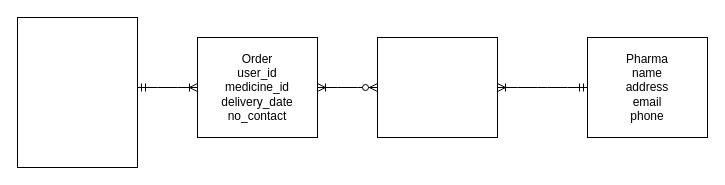
The diagram is 725 pixels wide and 185 high, and some of its shapes have lost their labels. The centre of each missing label's shape, as x and y in pixels:
Medicine name price pharmacy_id dosage quantity: point (437, 87)
User first_name last_name sex date_of_birth phone address allergies medication: point (77, 92)
